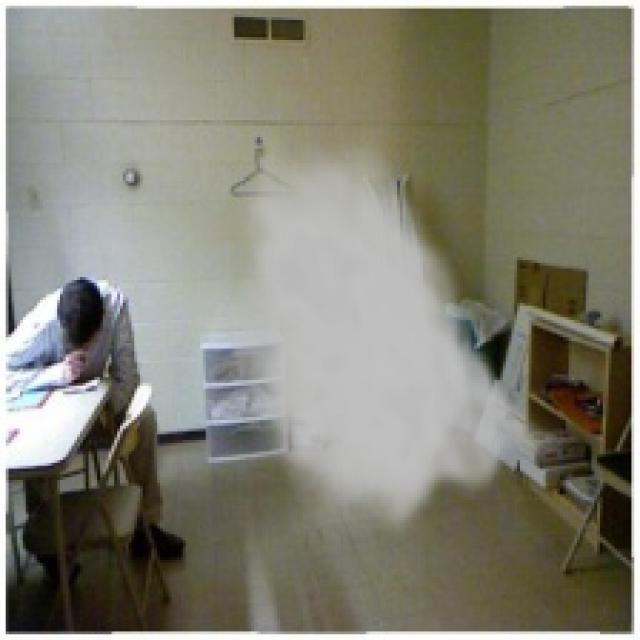Smoke: (222, 120, 574, 546)
